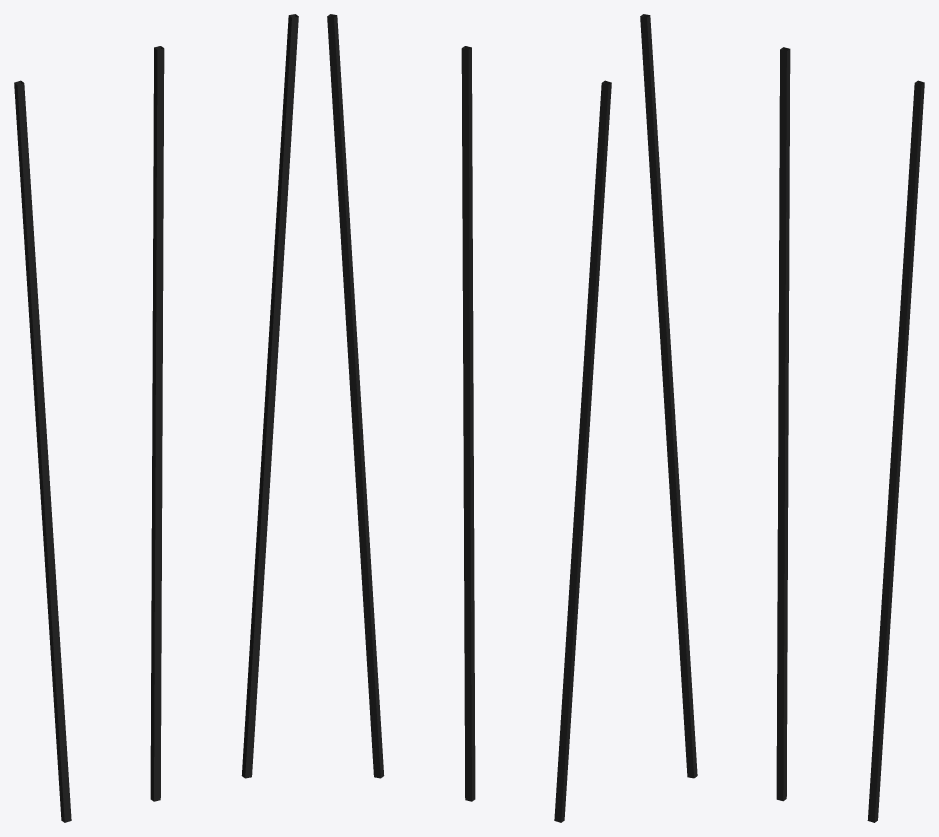
File: wall_LV5_sbarre_windows1.fbx
3 renders of one model, left to right at view 1: azimuth 30°, elevation 25°; view 2: azimuth 150°, elevation 25°; view 3: azimuth 330°, elevation 25°, orthographic.
Parts seen in each view (by area): view 1: polySurface5; view 2: polySurface5; view 3: polySurface5.
Boxes of the visible parts, box(x1,y1,x2,y2) form: polySurface5: box(14, 14, 298, 822); polySurface5: box(327, 14, 611, 822); polySurface5: box(640, 14, 924, 822).
Size of the model in its own units: 308 by 786 by 6.4.
